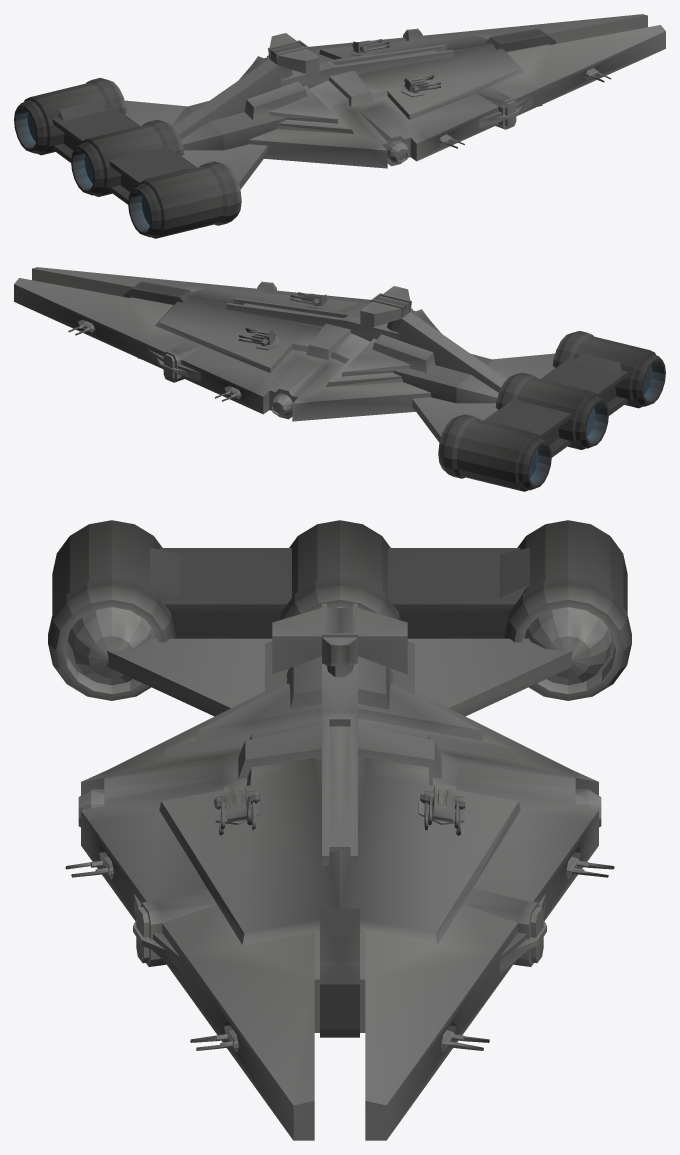
The model's file is lightcruiser.glb.
3 renders of one model, top to bottom at view 1: azimuth 30°, elevation 25°; view 2: azimuth 150°, elevation 25°; view 3: azimuth 270°, elevation 25°, orthographic. The views are drawn at different scales.
Visible parts, largest first — view 1: lightcruiser; view 2: lightcruiser; view 3: lightcruiser.
Part boxes in pixels (<box>): lightcruiser: <box>14,14,665,238</box>; lightcruiser: <box>14,267,665,491</box>; lightcruiser: <box>48,520,631,1140</box>.
Size of the model in its own units: 61.94 by 11.45 by 27.43.
